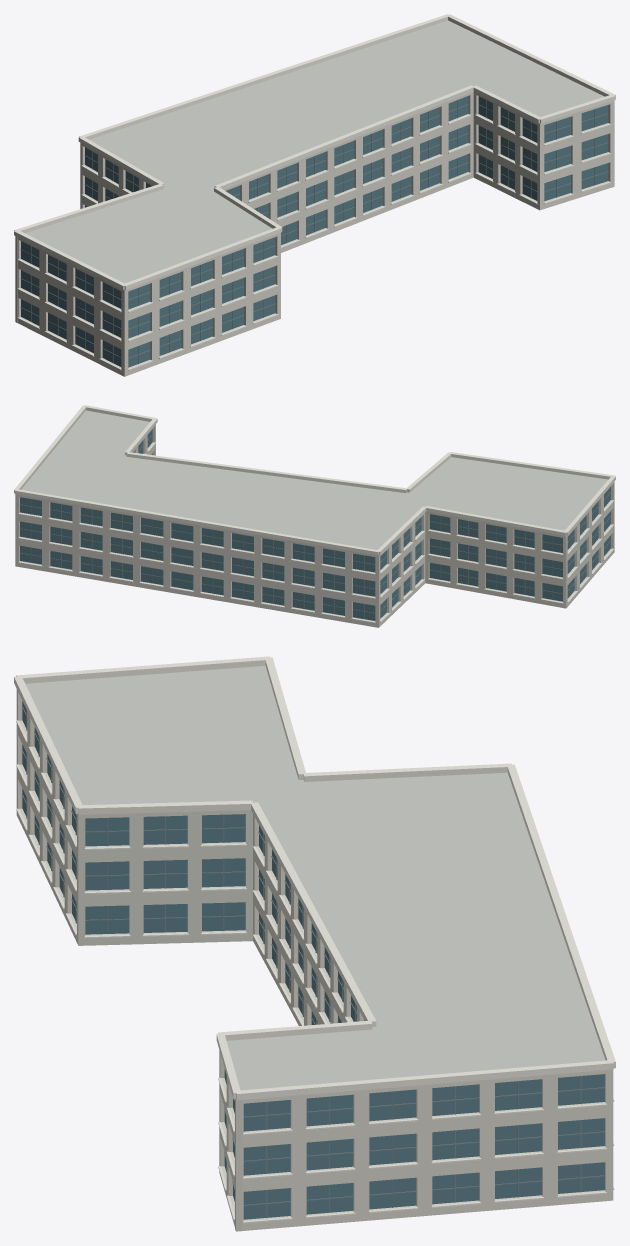
3 views of the same model, one above another, from view 1: azimuth 30°, elevation 25°; view 2: azimuth 150°, elevation 25°; view 3: azimuth 270°, elevation 25° (orthographic). The views are drawn at different scales.
Parts seen in each view (by area): view 1: roof, wall, glass, trim, metal; view 2: roof, wall, glass, trim, metal; view 3: roof, wall, glass, trim, metal.
Boxes of the visible parts, x1,y1,x2,y2 form: roof: (25,20,604,283); wall: (15,91,614,376); glass: (21,96,608,367); trim: (14,14,615,370); metal: (20,100,608,364); roof: (21,410,607,549); wall: (15,424,614,627); glass: (20,429,610,620); trim: (14,405,615,623); metal: (19,433,610,619); roof: (25,665,605,1090); wall: (16,689,613,1231); glass: (22,701,604,1219); trim: (14,656,615,1223); metal: (21,705,604,1218).
Size of the model in its own units: 66.01 by 9.74 by 38.36.
